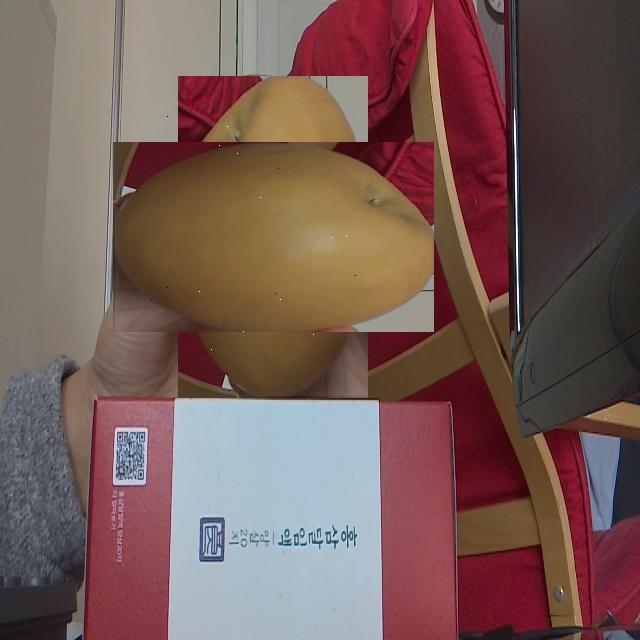pear: (145, 109, 401, 365)
